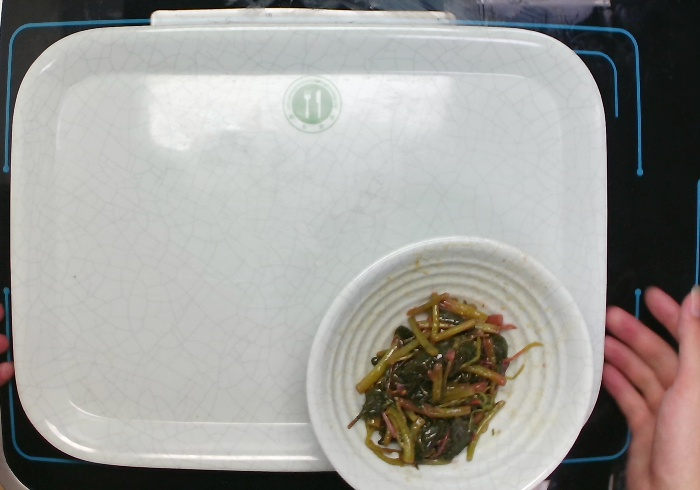JYsf-Xiao_Tang_Wan: (303, 232, 596, 490)
